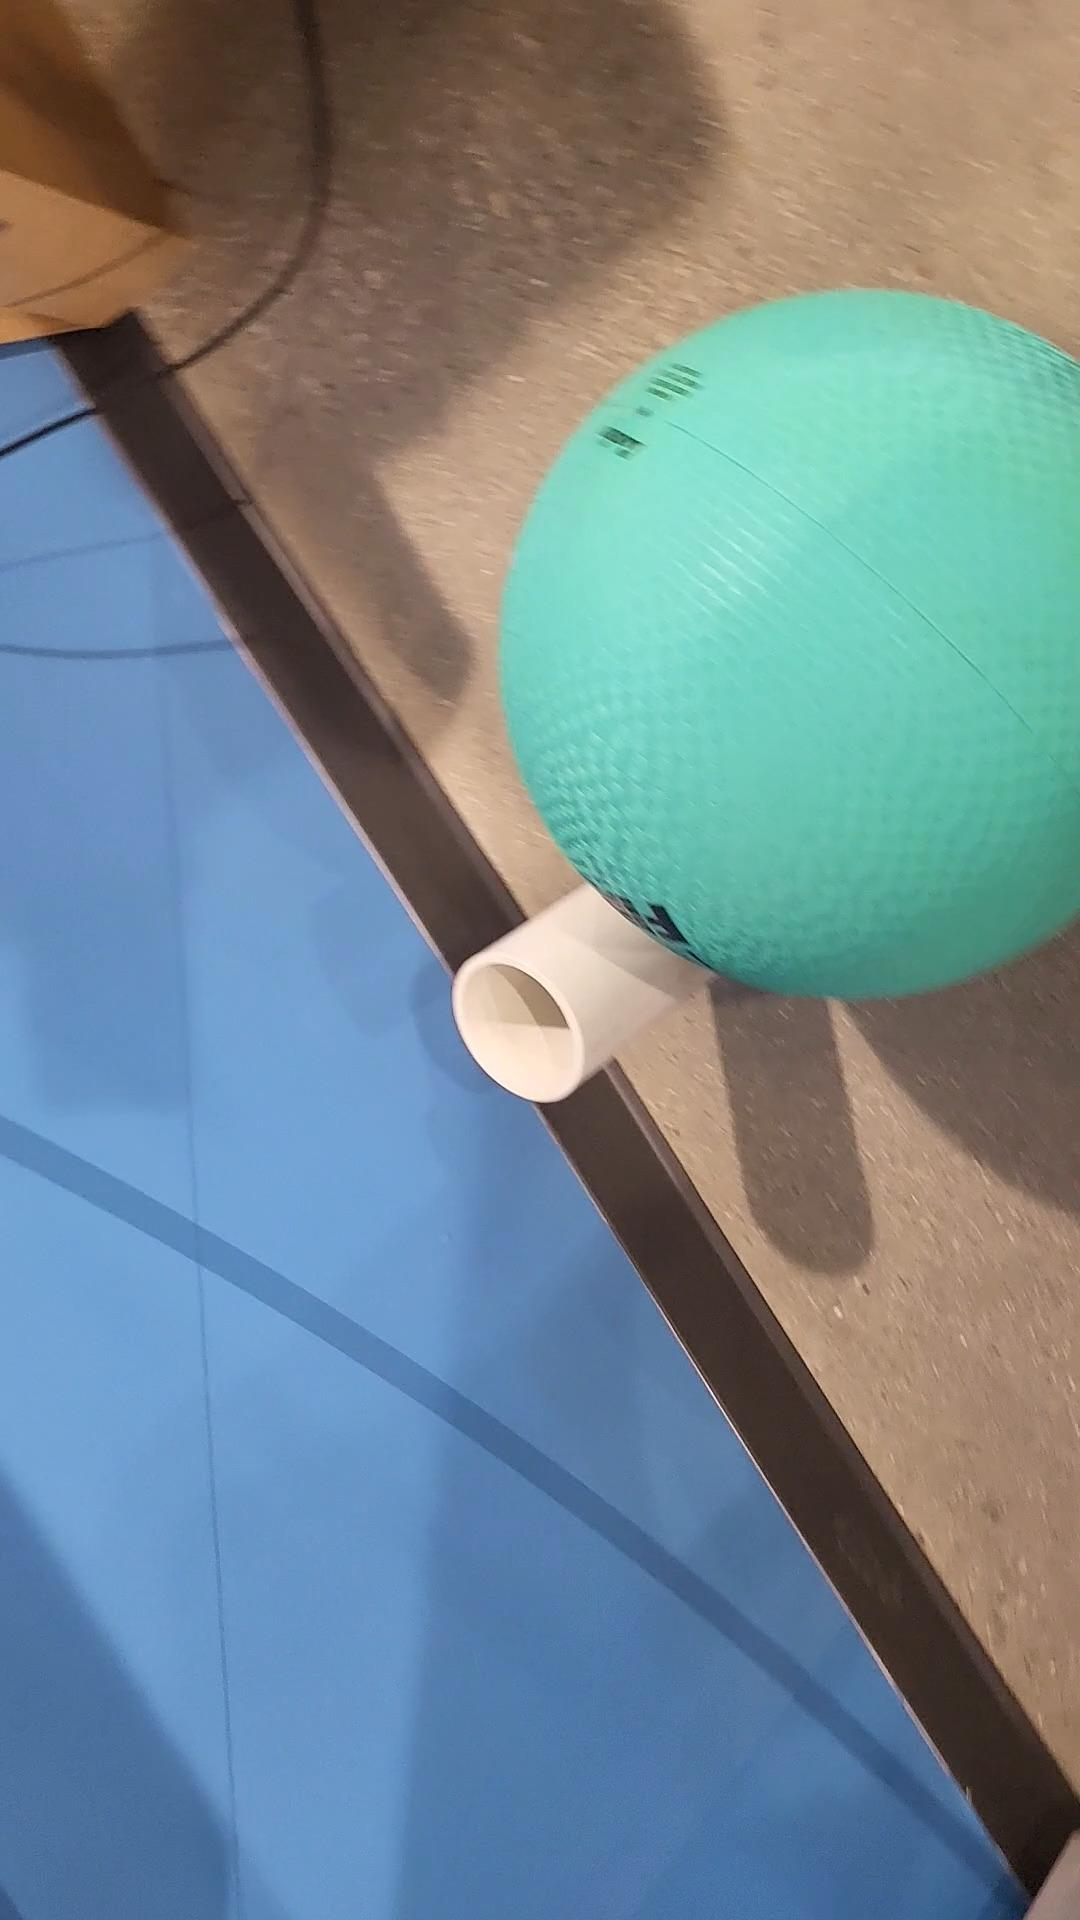algae: (505, 290, 1080, 996)
coral: (458, 876, 717, 1102)
